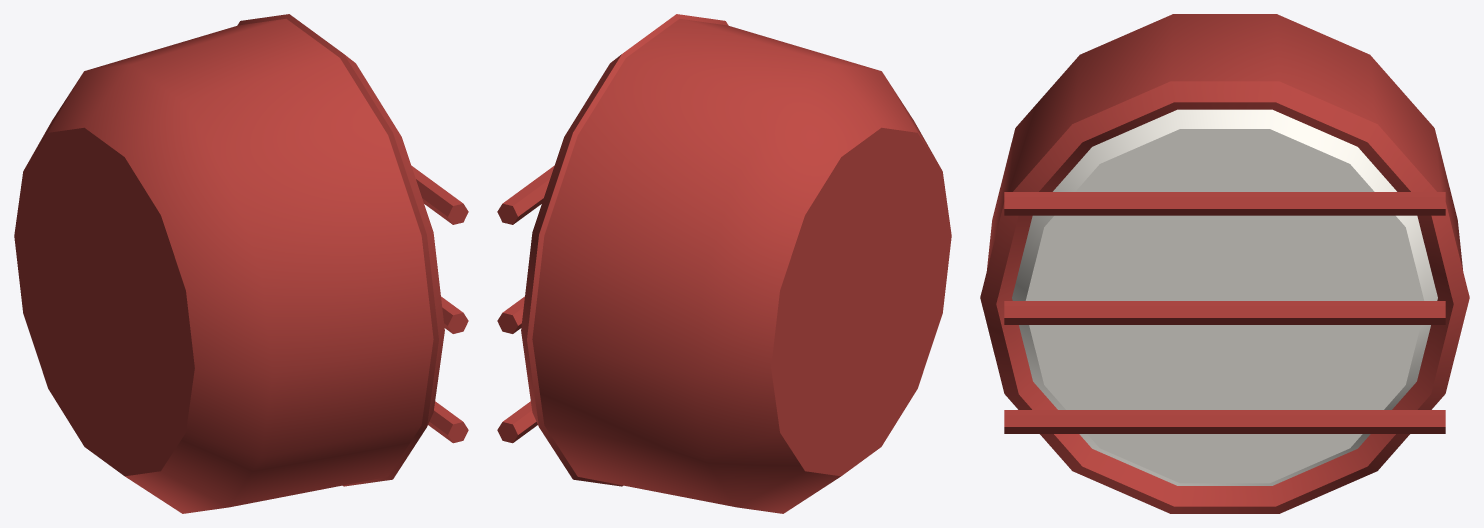
The model's file is rally_lod1.glb.
3 renders of one model, left to right at view 1: azimuth 30°, elevation 25°; view 2: azimuth 150°, elevation 25°; view 3: azimuth 270°, elevation 25°, orthographic.
Visible parts, largest first — view 1: rally_lod1; view 2: rally_lod1; view 3: rally_lod1.
Boxes of the visible parts, x1,y1,x2,y2 form: rally_lod1: (14, 14, 468, 513); rally_lod1: (497, 14, 951, 513); rally_lod1: (980, 14, 1469, 513).
Bounding box in the file's own units: 0.073 × 0.1189 × 0.122.
